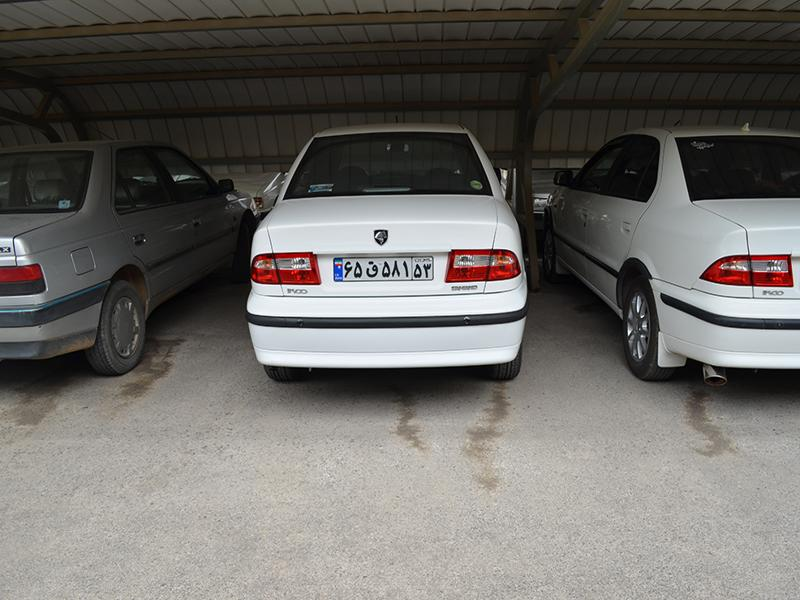Plate: (328, 251, 440, 288)
